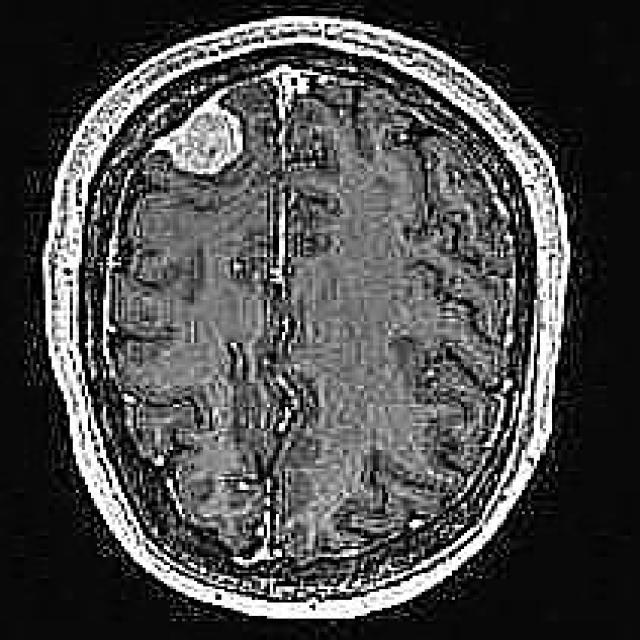Tumor-Cell: (146, 102, 262, 183)
